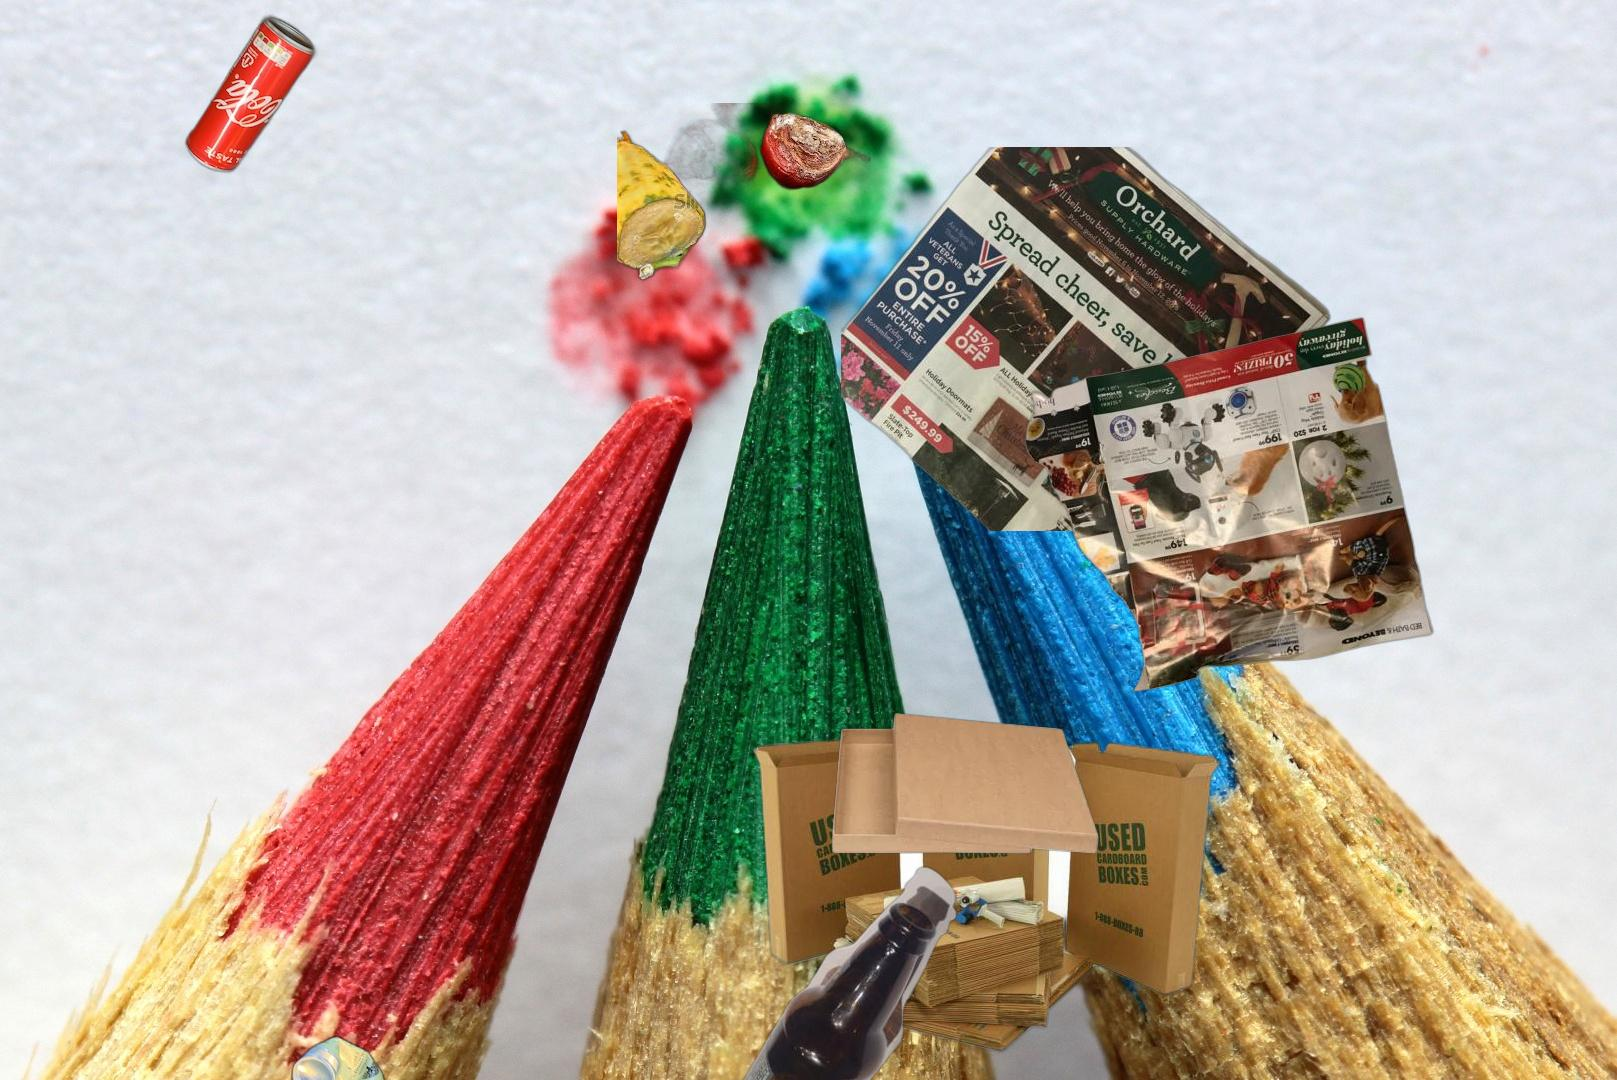biological: (617, 102, 871, 288)
glass: (722, 865, 962, 1080)
metal-cans: (181, 10, 322, 178), (286, 1031, 392, 1080)
paper: (841, 147, 1334, 532), (1021, 315, 1437, 695)
trashbox-cardboard: (748, 729, 1225, 1055), (830, 711, 1100, 856)
